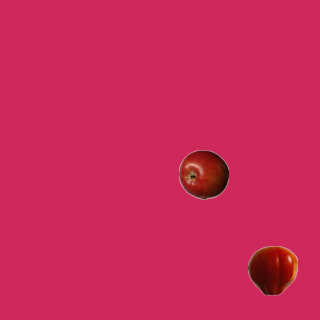Apple Braeburn: (178, 149, 228, 199)
Tomato 1: (247, 245, 297, 295)
